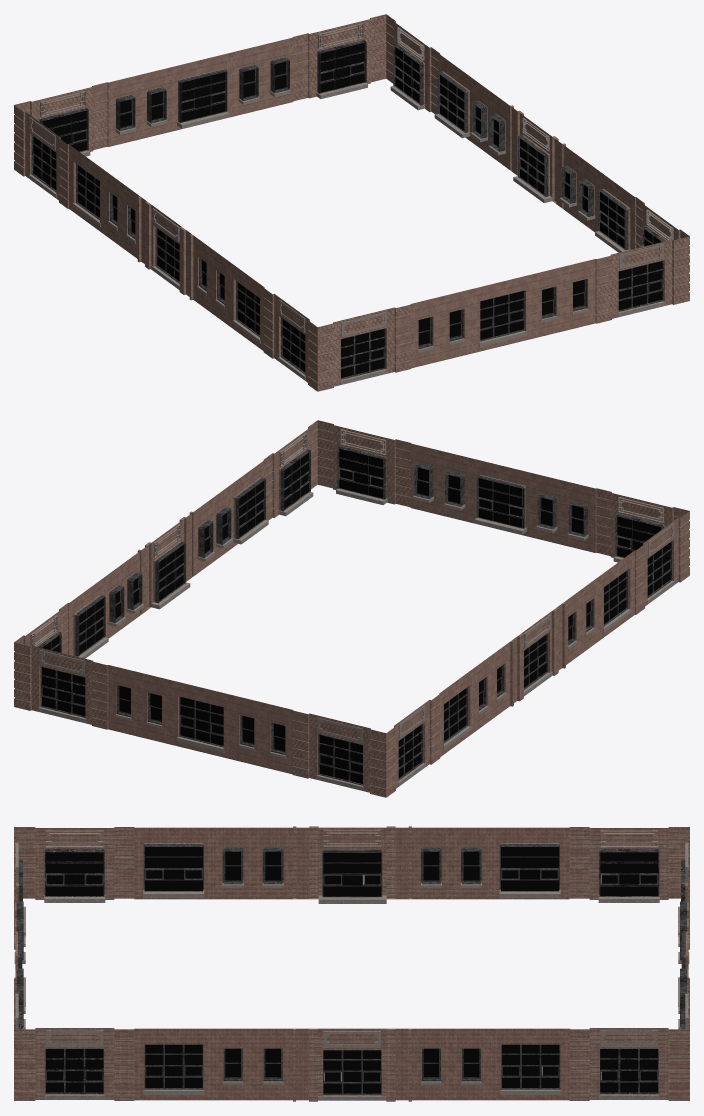
File: BuildingB_Mid_Shell_VarB.fbx
The picture shows the model from 3 angles, top to bottom: view 1: azimuth 30°, elevation 25°; view 2: azimuth 150°, elevation 25°; view 3: azimuth 270°, elevation 25°; orthographic projection. The views are drawn at different scales.
Visible parts, largest first — view 1: BuildingB_Mid_Shell_VarB; view 2: BuildingB_Mid_Shell_VarB; view 3: BuildingB_Mid_Shell_VarB.
Part boxes in pixels (<box>): BuildingB_Mid_Shell_VarB: <box>14,14,689,391</box>; BuildingB_Mid_Shell_VarB: <box>14,420,689,797</box>; BuildingB_Mid_Shell_VarB: <box>14,826,689,1101</box>.
Bounding box in the file's own units: 2430 × 400 × 3410.
